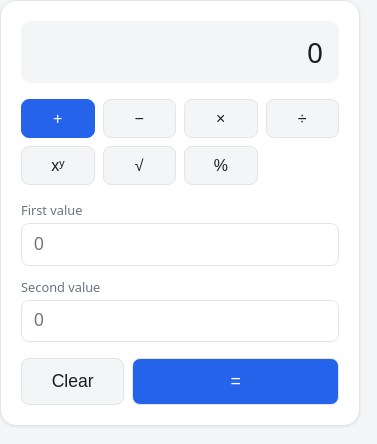
Test case: Calculator › hides the second input for the unary sqrt operation
Click the button named "Square root" at (139,166), box [102, 146, 176, 185]
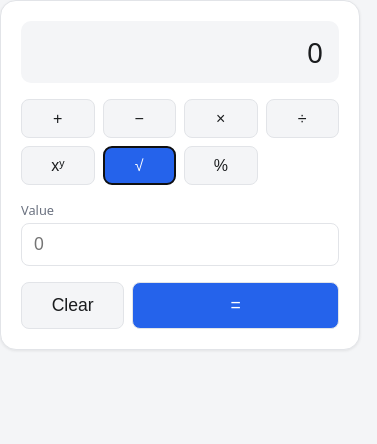
Expected: the number field labelled "Value" is shown, [21, 223, 339, 266]
Now the text labelled "Second value" is gone
